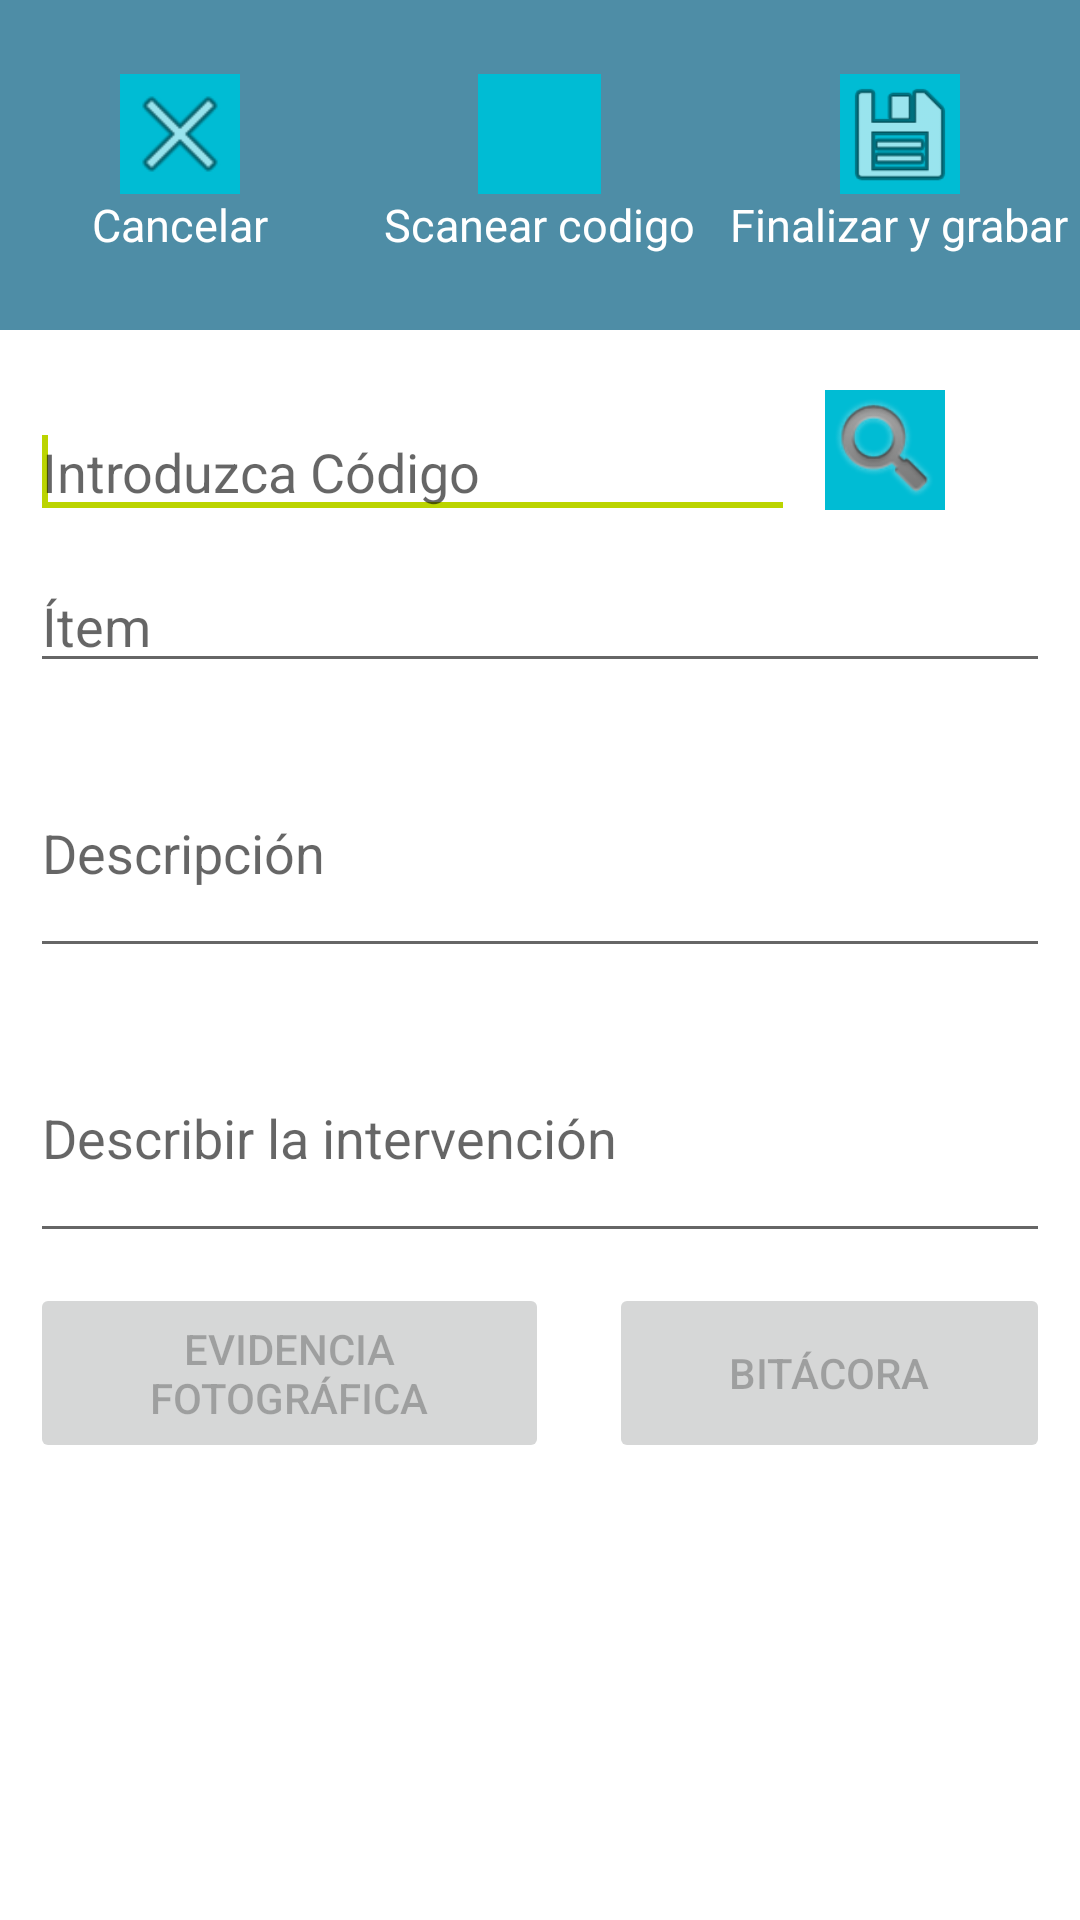

Locate icon controls on the screen. Image size 1080w x 1920h, boxes as (x1, y1, x2, y2).
search category: (825, 390, 945, 510)
